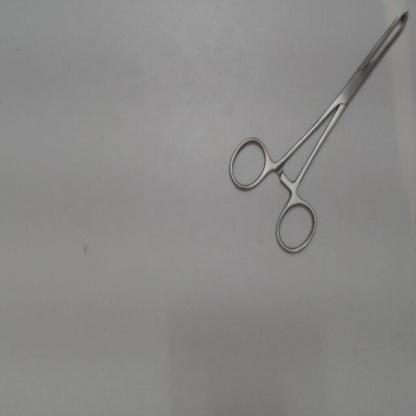Allis Tissue Forceps: (220, 6, 412, 264)
